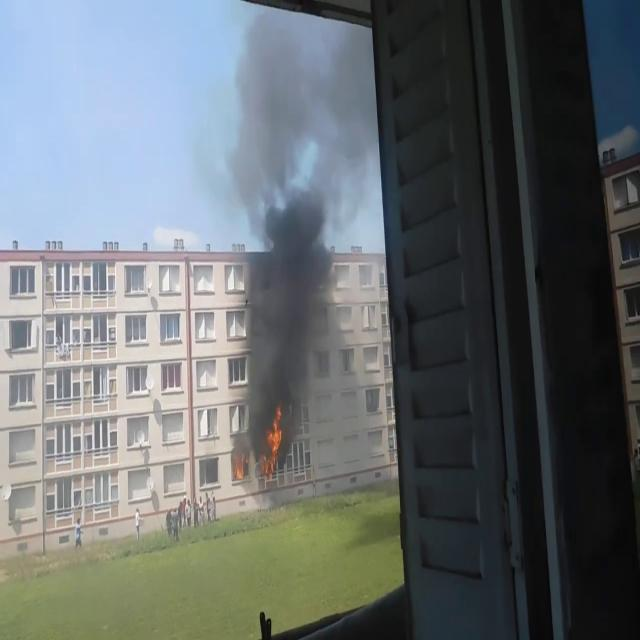Fire: (262, 403, 286, 481)
Smoke: (224, 7, 358, 457)
